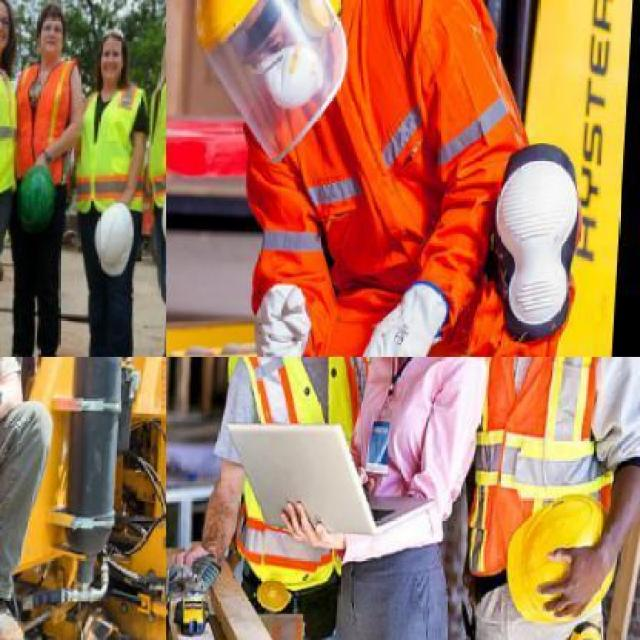hat: (505, 493, 636, 636), (93, 191, 142, 279), (23, 160, 63, 226)
